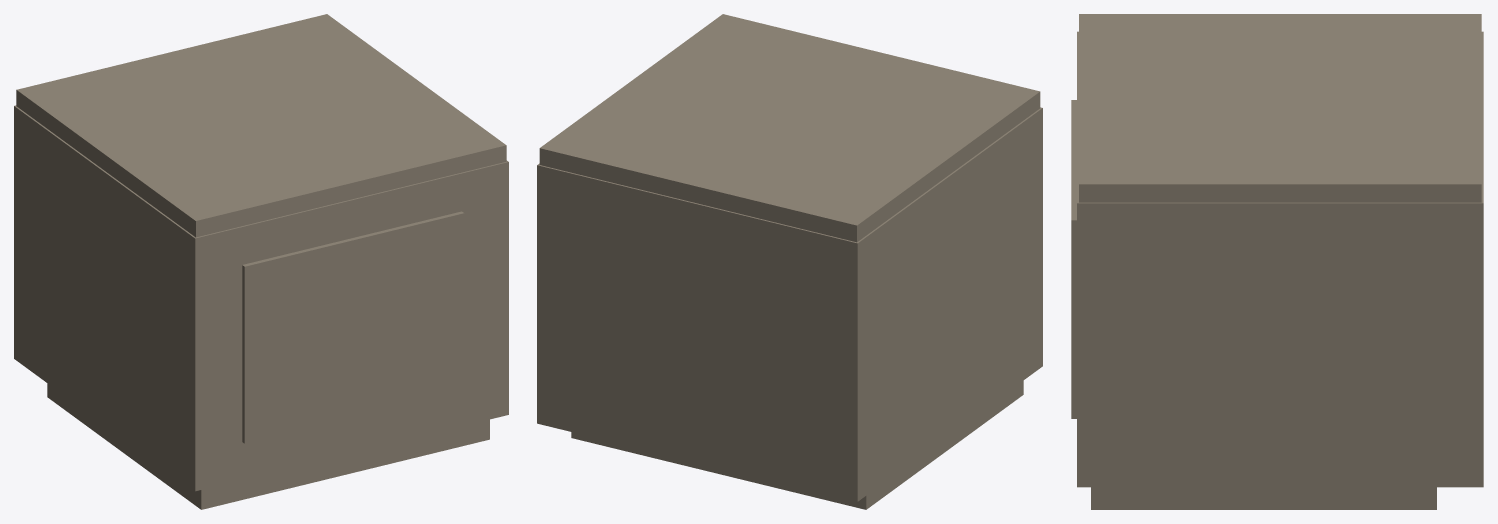
Rendered from tray_rack_whole.glb.
3 renders of one model, left to right at view 1: azimuth 30°, elevation 25°; view 2: azimuth 150°, elevation 25°; view 3: azimuth 270°, elevation 25°, orthographic. The views are drawn at different scales.
Parts seen in each view (by area): view 1: tray_rack_whole_0; view 2: tray_rack_whole_0; view 3: tray_rack_whole_0.
Boxes of the visible parts, <box> form: tray_rack_whole_0: <box>14,14,508,509</box>; tray_rack_whole_0: <box>537,14,1042,509</box>; tray_rack_whole_0: <box>1071,14,1483,509</box>.
Size of the model in its own units: 1 by 0.9 by 1.01.
